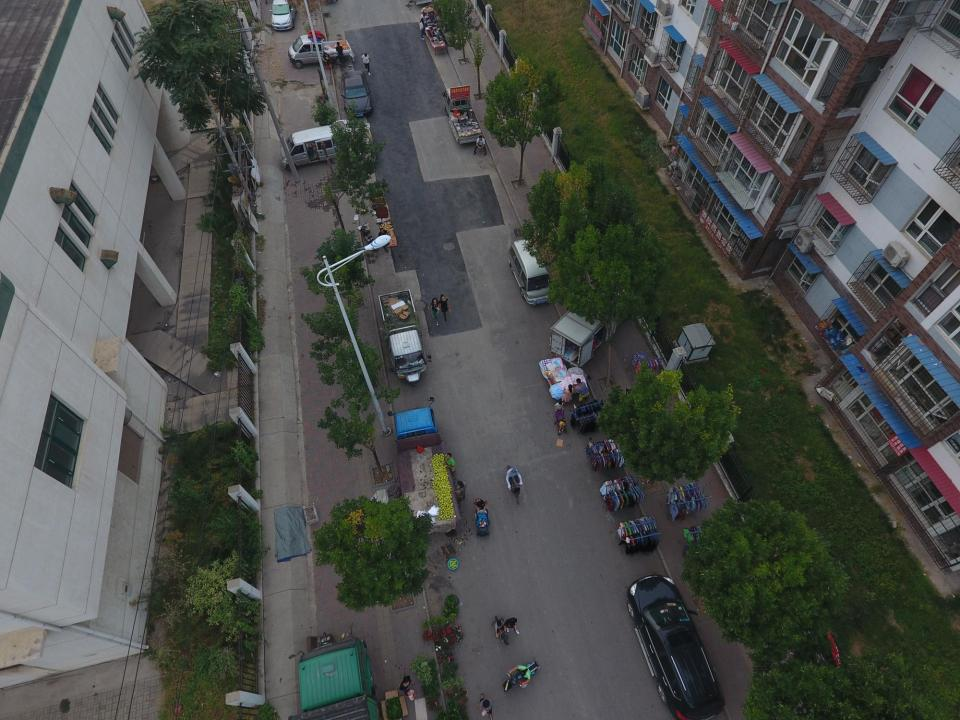car: (625, 574, 727, 720), (341, 70, 373, 118)
truck: (387, 397, 461, 535), (550, 290, 625, 368), (378, 288, 432, 386), (442, 87, 482, 144), (287, 34, 352, 68)
van: (280, 120, 354, 172), (508, 238, 553, 305), (269, 0, 297, 30)
